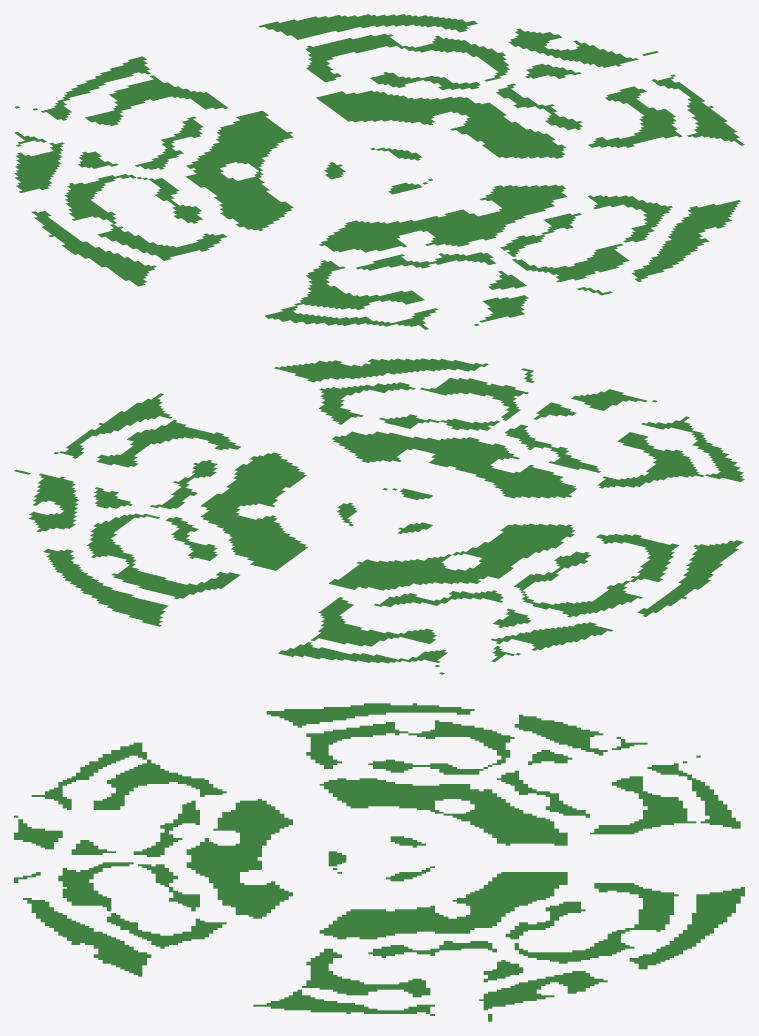
File: Inv-1-TreesArea.fbx
The picture shows the model from 3 angles, top to bottom: view 1: azimuth 30°, elevation 25°; view 2: azimuth 150°, elevation 25°; view 3: azimuth 270°, elevation 25°; orthographic projection. The views are drawn at different scales.
Visible parts, largest first — view 1: Inv-1-TreesArea; view 2: Inv-1-TreesArea; view 3: Inv-1-TreesArea.
Part boxes in pixels (<box>): Inv-1-TreesArea: <box>14,14,744,329</box>; Inv-1-TreesArea: <box>14,358,744,674</box>; Inv-1-TreesArea: <box>14,703,744,1021</box>.
Size of the model in its own units: 170 by 0 by 165.
